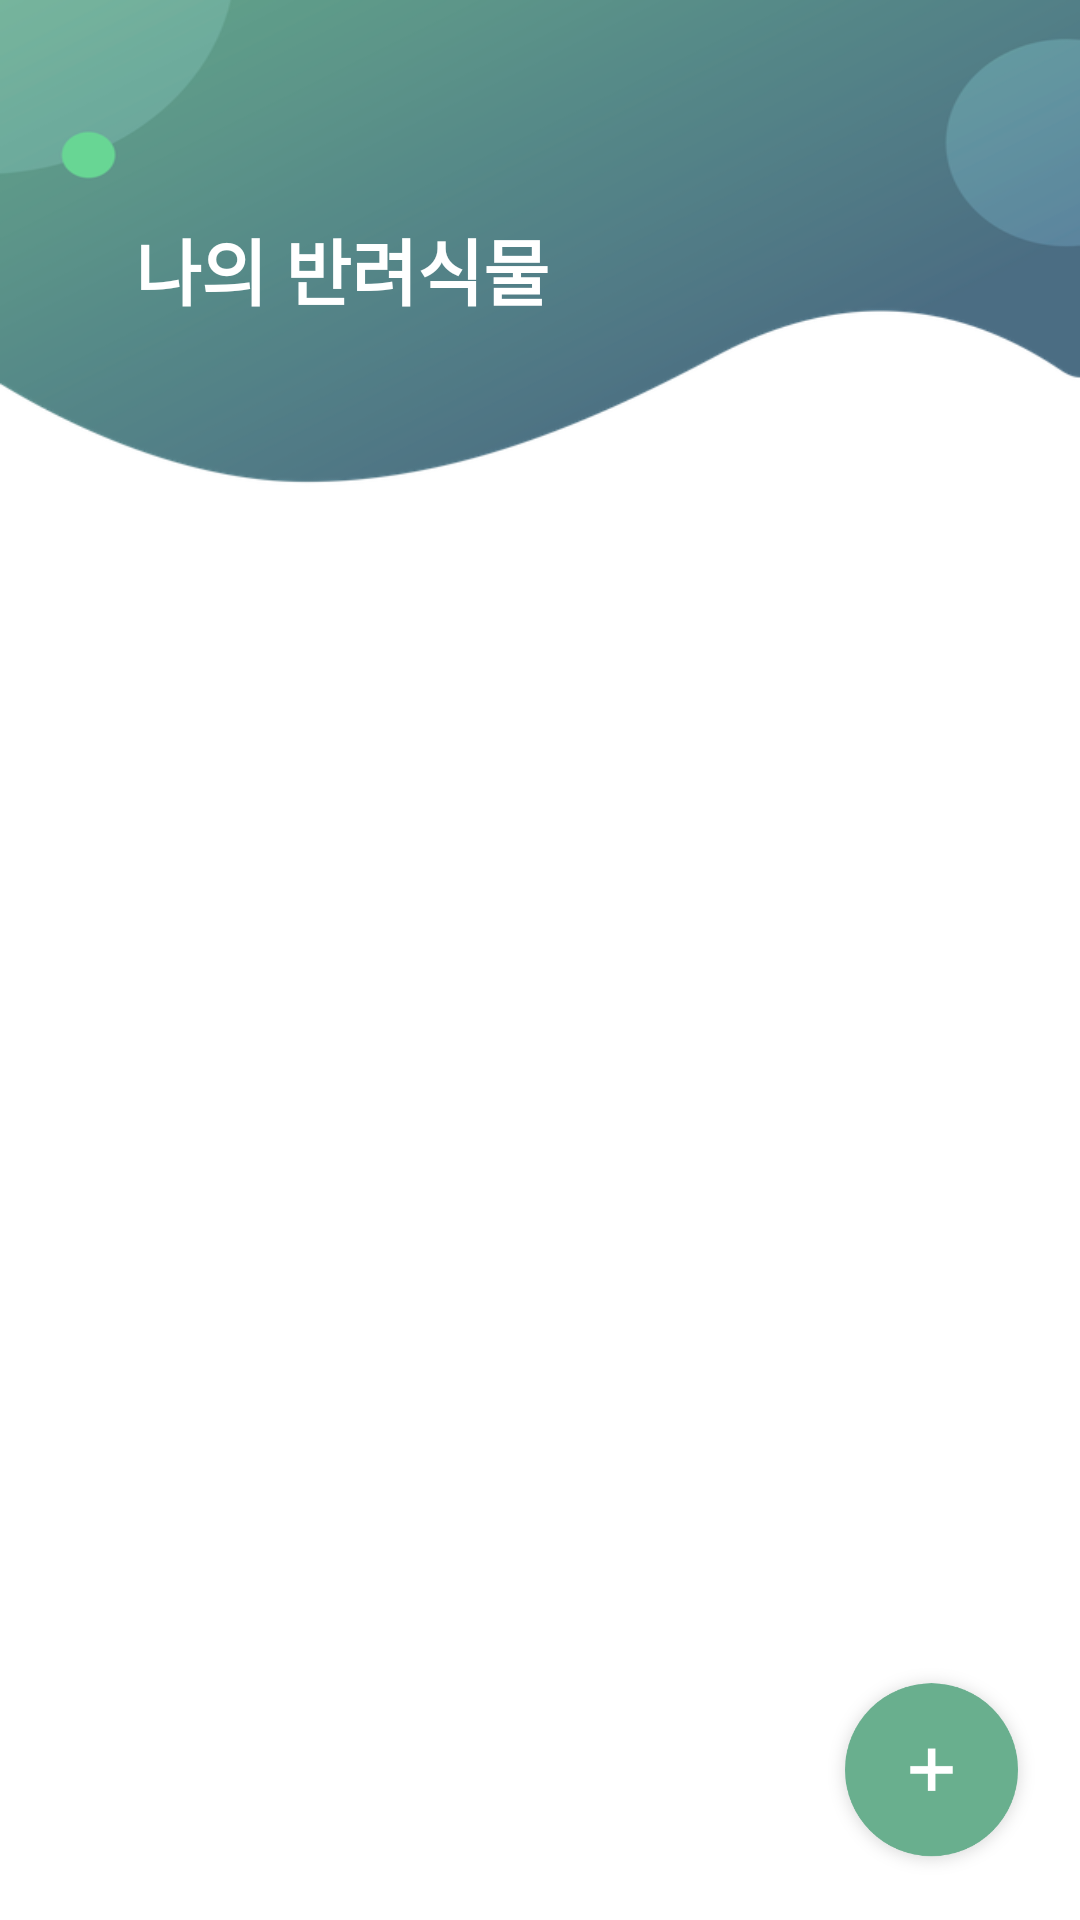

Screen size 1080px x 1920px. Icon name, then its center in pixels as (x=x, y=y):
plusplnat: (x=931, y=1770)
